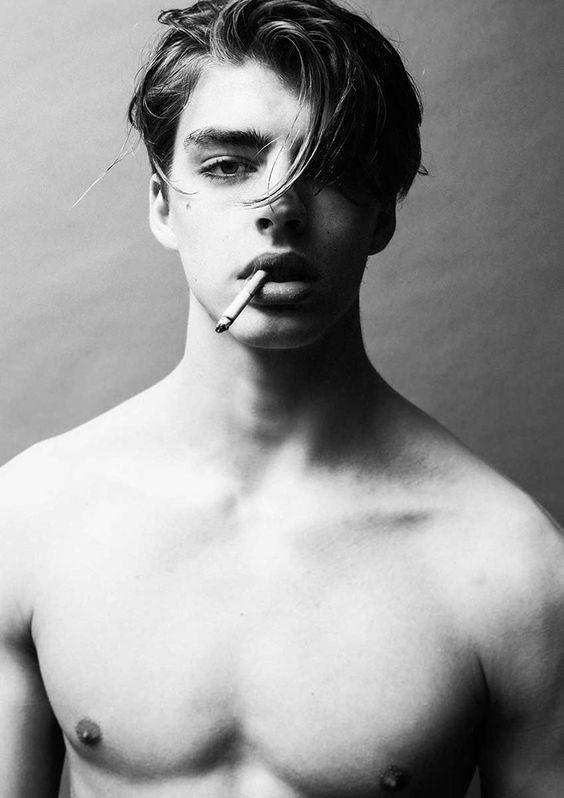cigarette: (215, 269, 271, 334)
